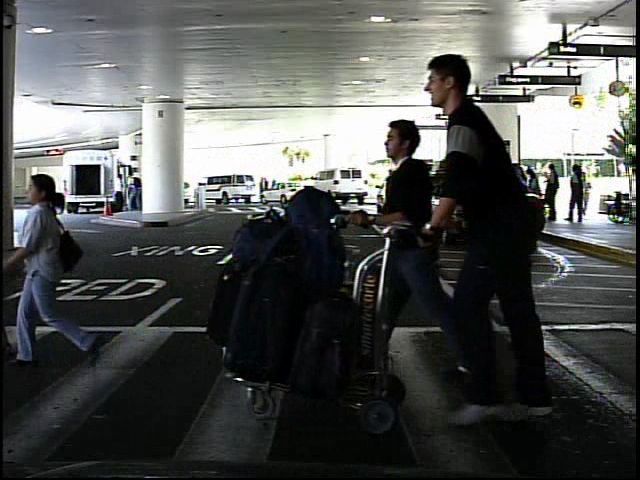person: (431, 47, 560, 424), (354, 115, 463, 393), (12, 157, 112, 382), (581, 170, 600, 219), (114, 173, 126, 212)
